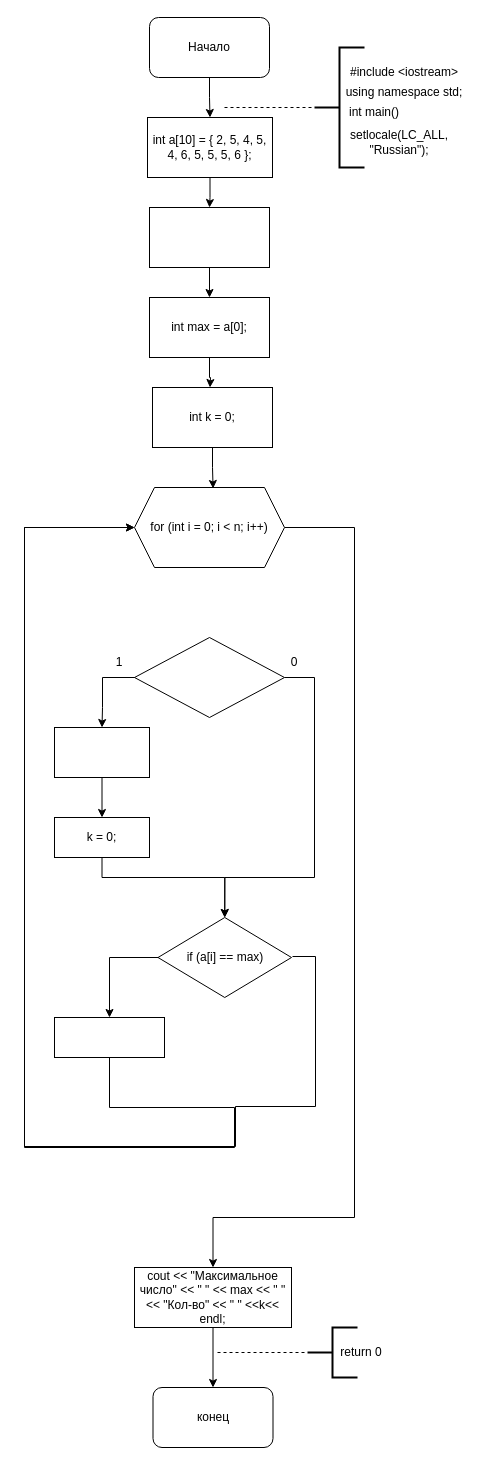
The diagram is 492 pixels wide and 1465 high, and some of its shapes have lost their labels. Each missing label, with the centre of its shape:
"if (a[i] > max)" goes at [209,677].
"int n = 10;" goes at [209,237].
"k+=1;" goes at [109,1037].
"max = a[i];" goes at [102,752].
